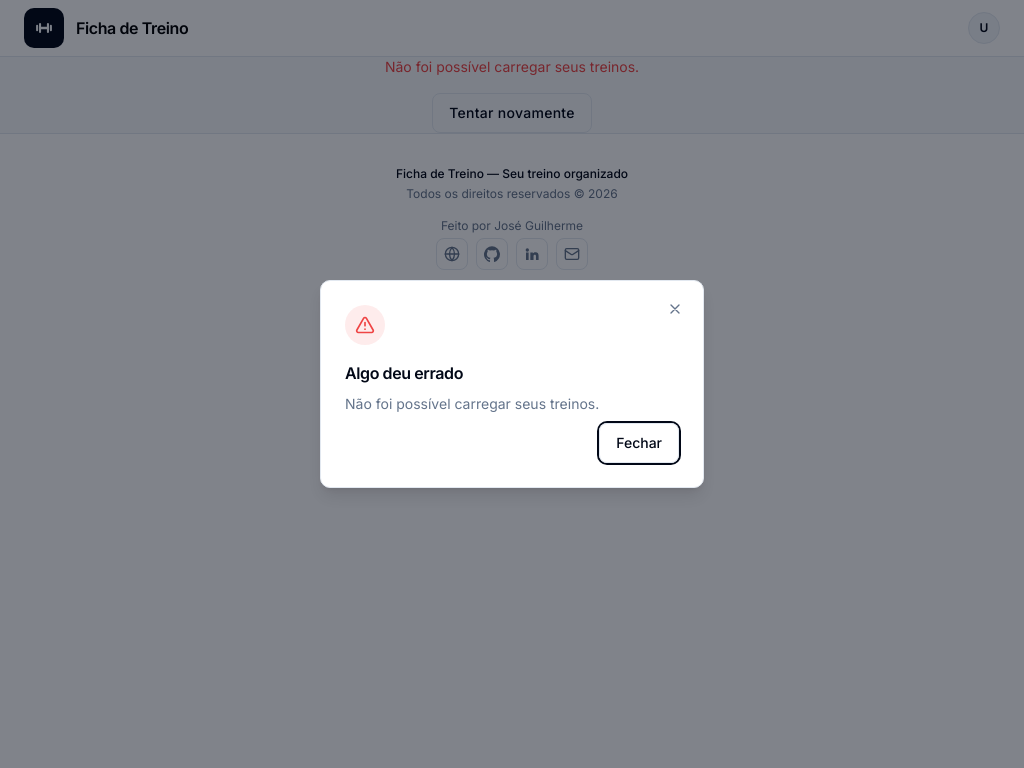
Test case: DashboardClient › shows an error dialog while keeping dashboard retry available
Expected: the dialog shows "Não foi possível carregar seus treinos.", [345,395,599,412]
Click the button "Fechar".
click(639, 443)  # box [599,423,679,463]
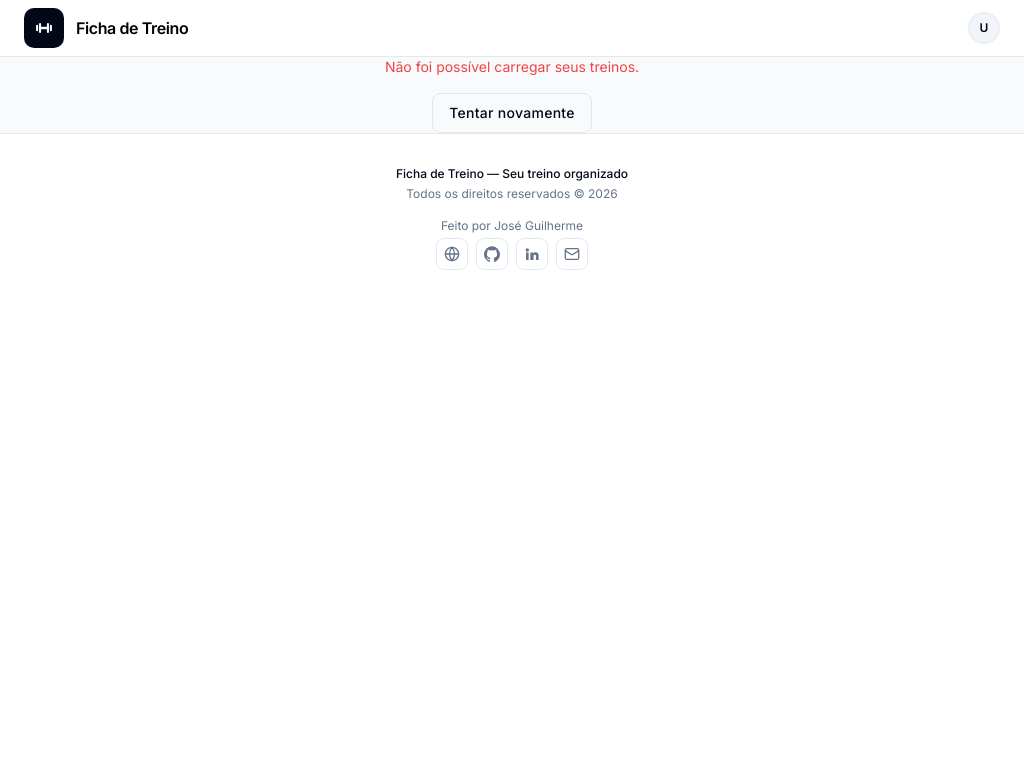
Expected: the button "Tentar novamente" is enabled, [432,93,592,133]
Now the dialog is gone
